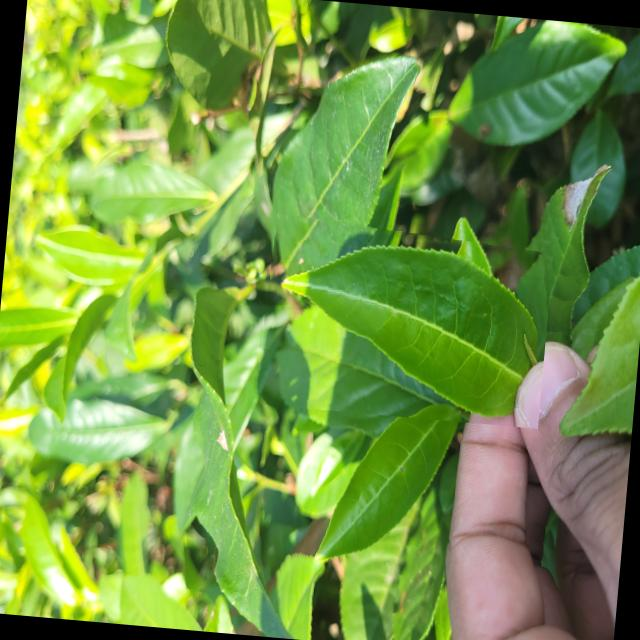Catagory A(1-2 days): (252, 212, 554, 428)
